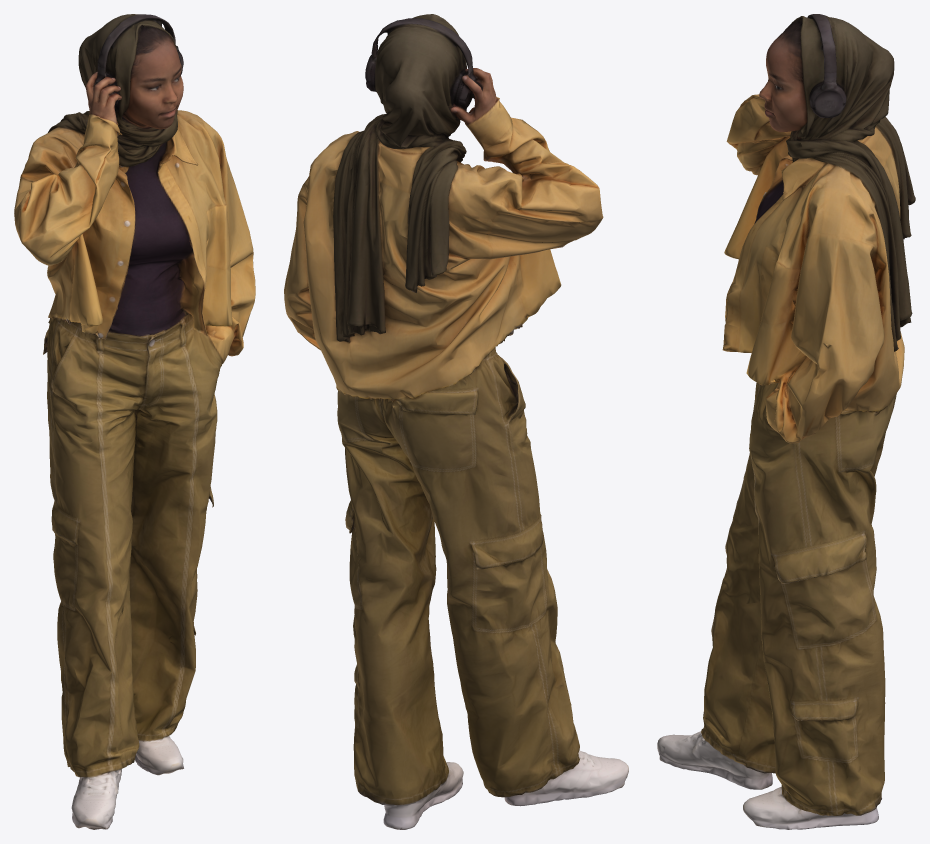
The model's file is patient.glb.
3 views of the same model, side by side, from view 1: azimuth 30°, elevation 25°; view 2: azimuth 150°, elevation 25°; view 3: azimuth 270°, elevation 25° (orthographic). The views are drawn at different scales.
Visible parts, largest first — view 1: rp_posed_00178_29; view 2: rp_posed_00178_29; view 3: rp_posed_00178_29.
Boxes of the visible parts, left/top/right/bottom form: rp_posed_00178_29: left=14, top=14, right=255, bottom=829; rp_posed_00178_29: left=284, top=14, right=628, bottom=829; rp_posed_00178_29: left=657, top=14, right=915, bottom=829.
Bounding box in the file's own units: 0.064 × 0.1725 × 0.0505.
Materials: 1 (1 with a texture image).
